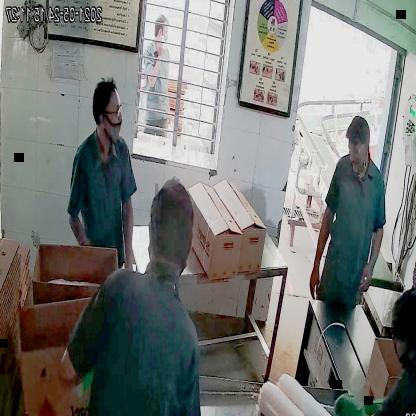goggles: (94, 98, 125, 126), (348, 137, 372, 157)
